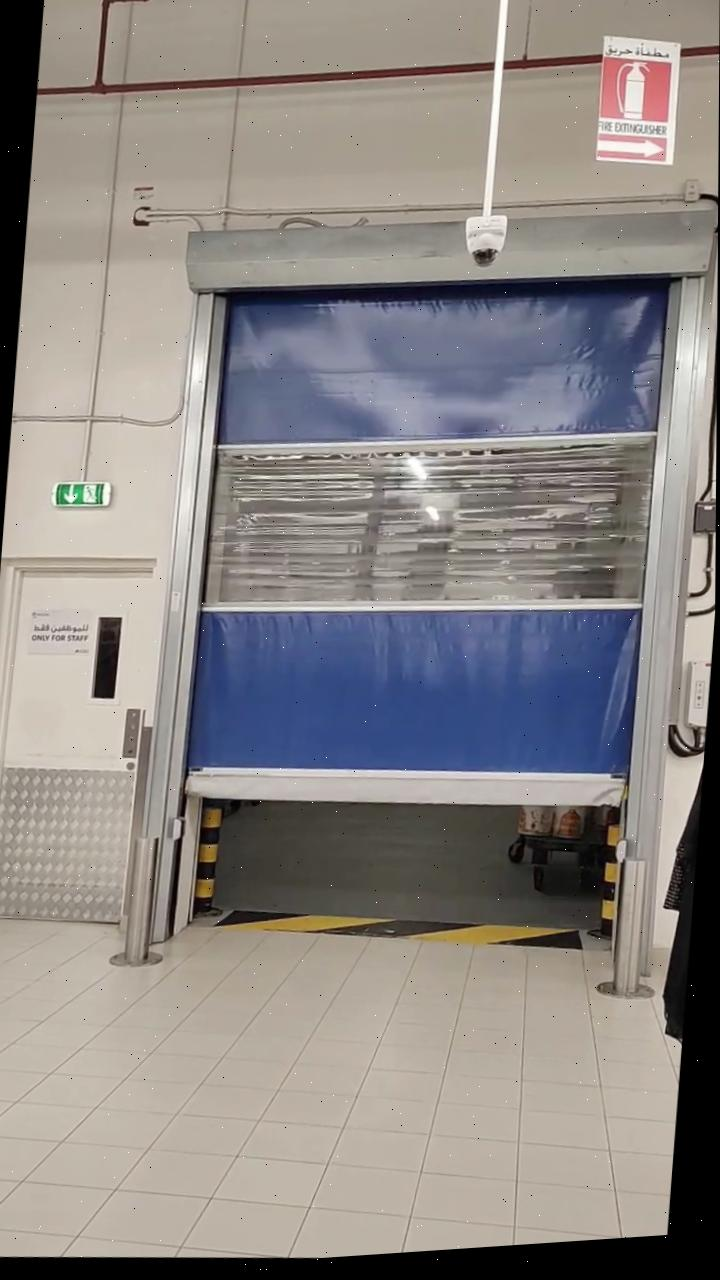Strip: (208, 891, 589, 975)
